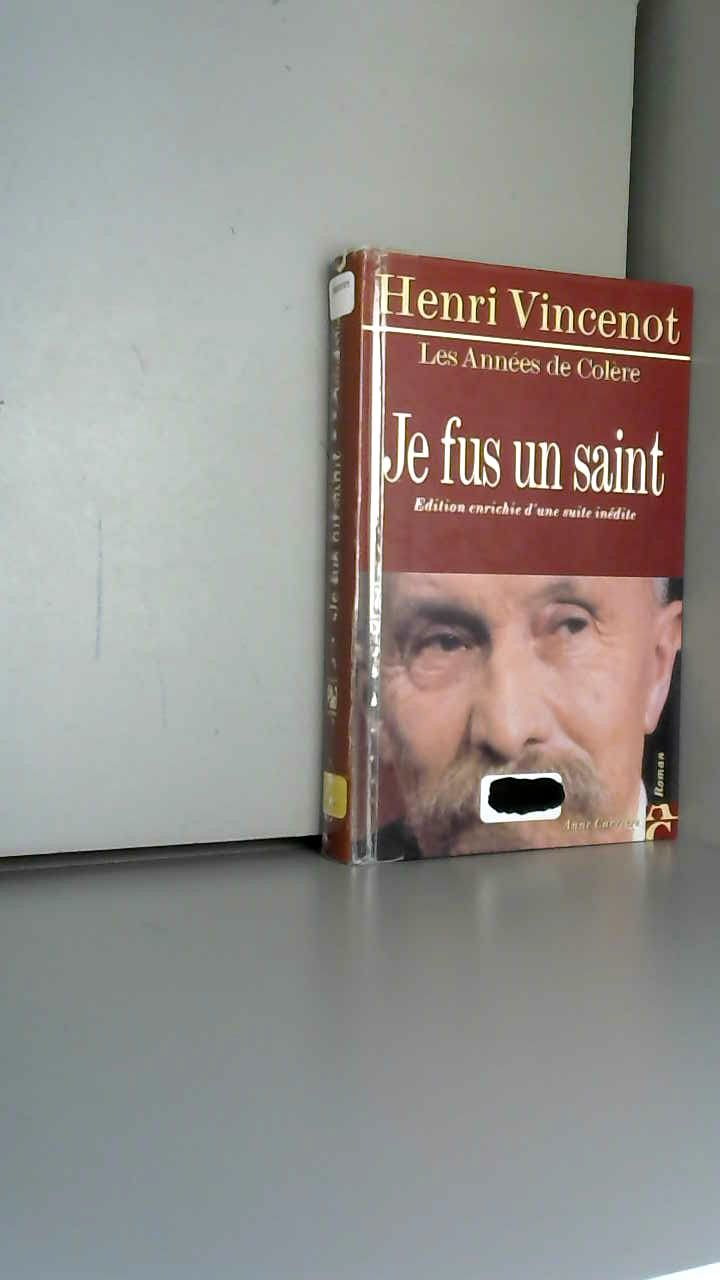book: (290, 220, 717, 891)
